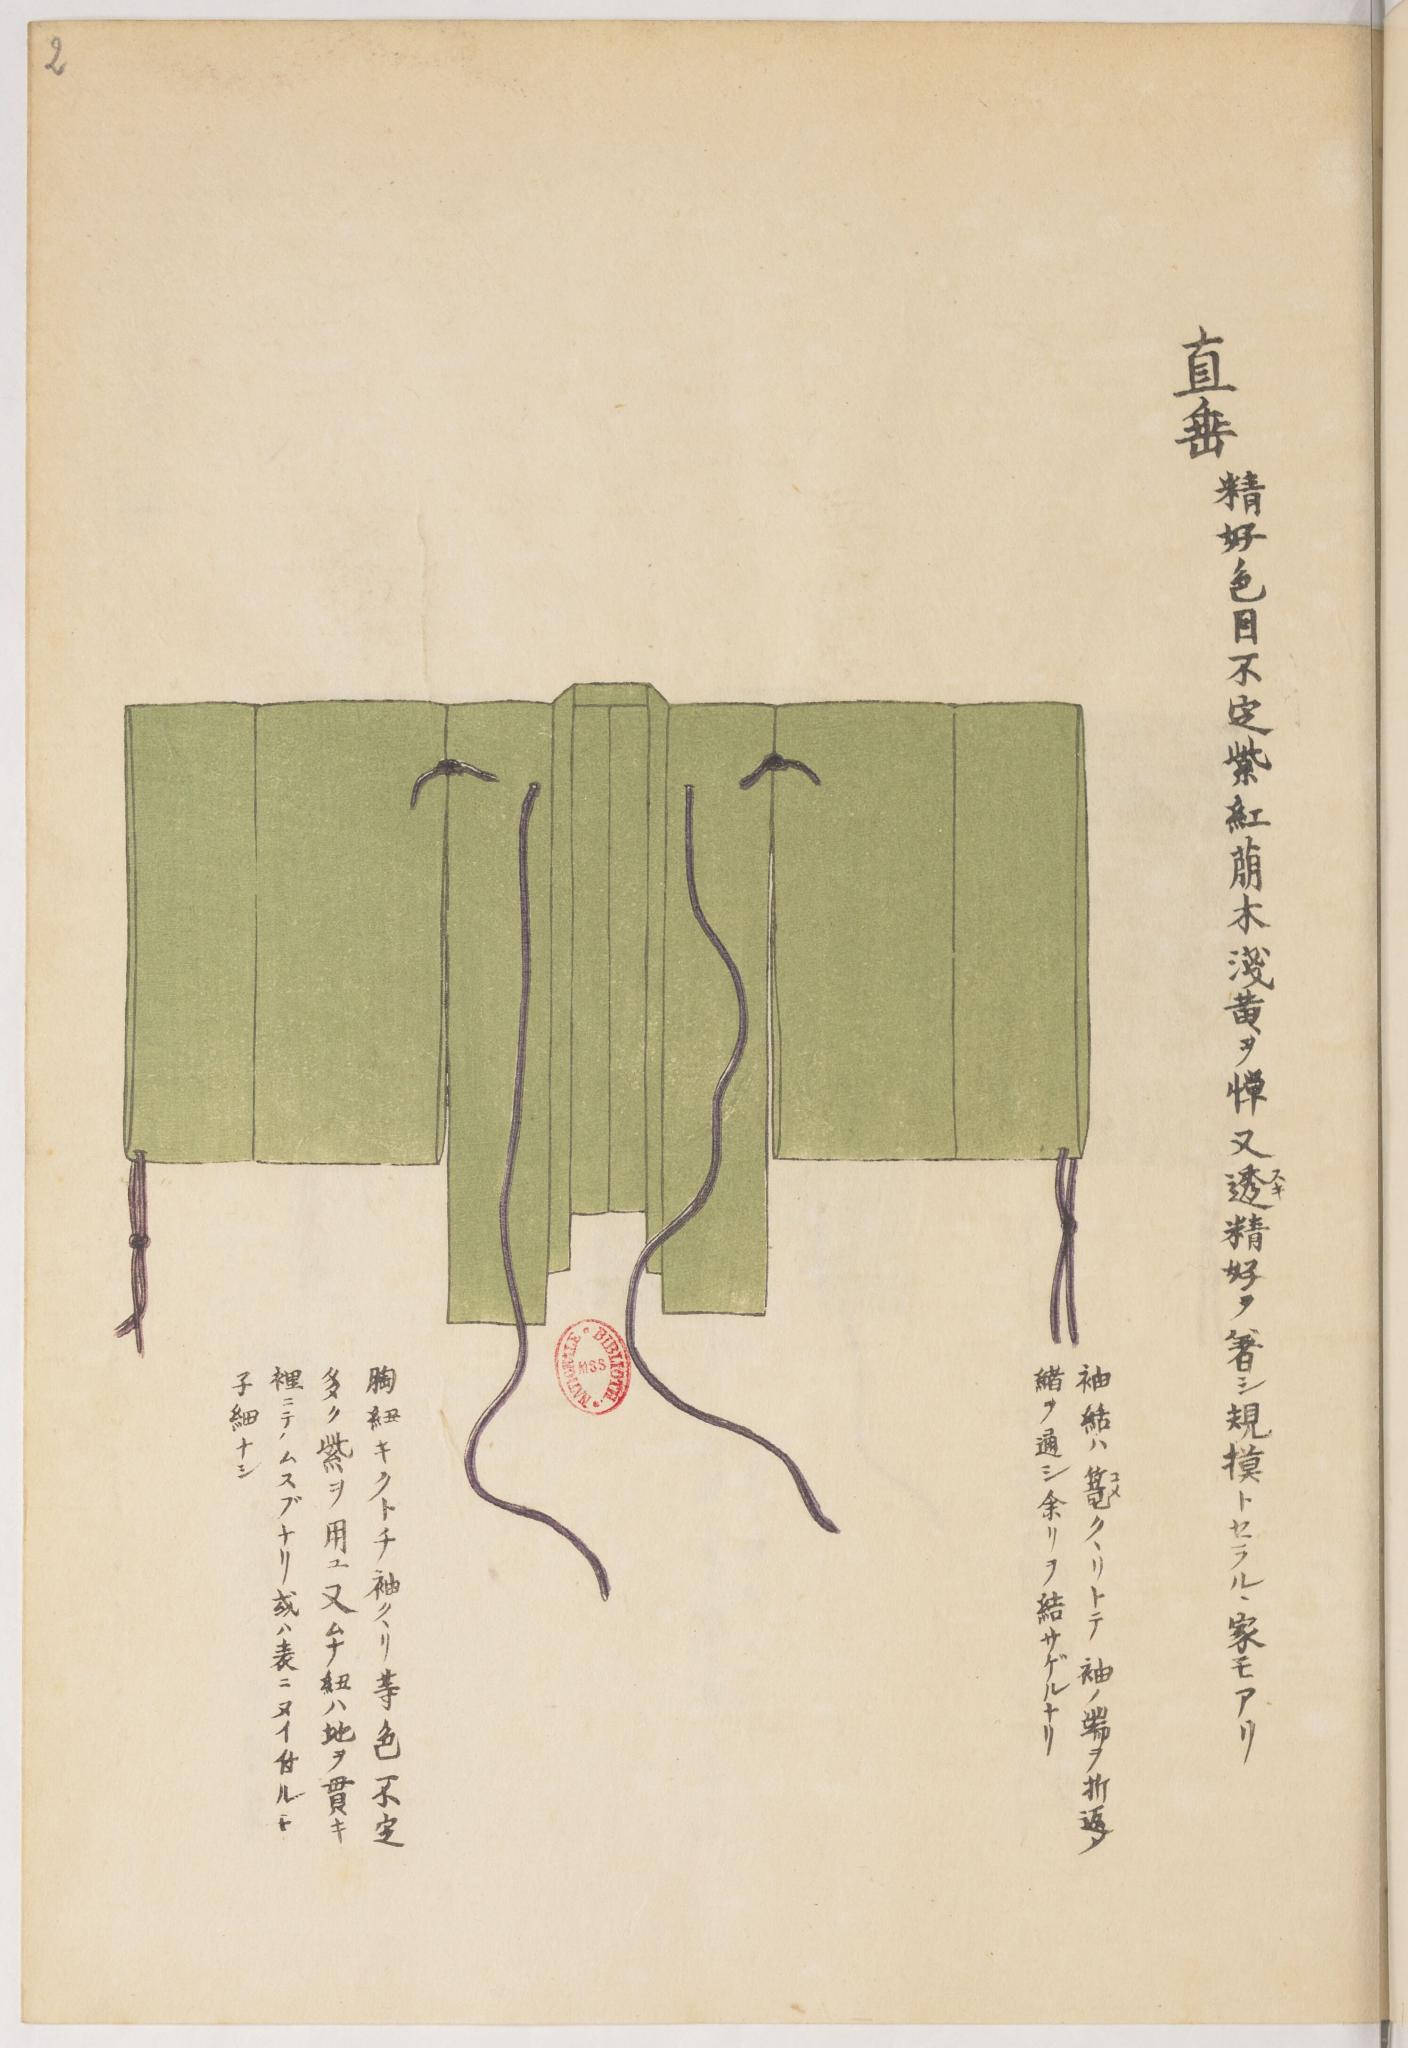MainZone-Character: (1215, 1158, 1293, 1212)
MainZone-Ruby: (1268, 1159, 1290, 1205)
